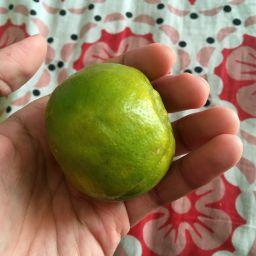Unripe: (46, 60, 175, 201)
